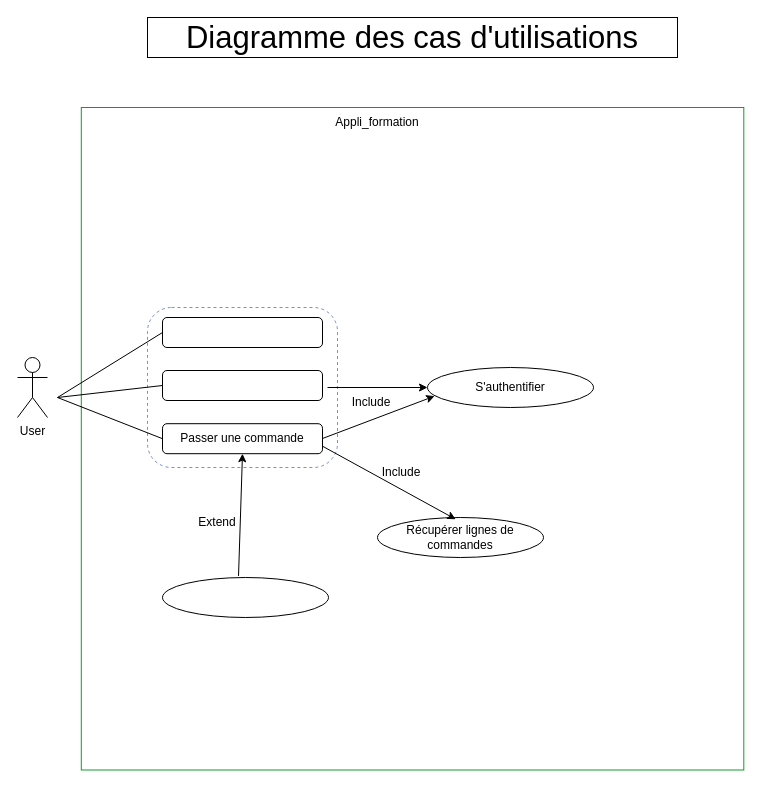
The diagram is 762 pixels wide and 788 high, and some of its shapes have lost their labels. Here are the shapes that lost their labels. From the top down, the centre of each, then its label:
[242,332]: Creer son compte User
[242,385]: consulter les formations
[245,597]: Sélectionner un client
